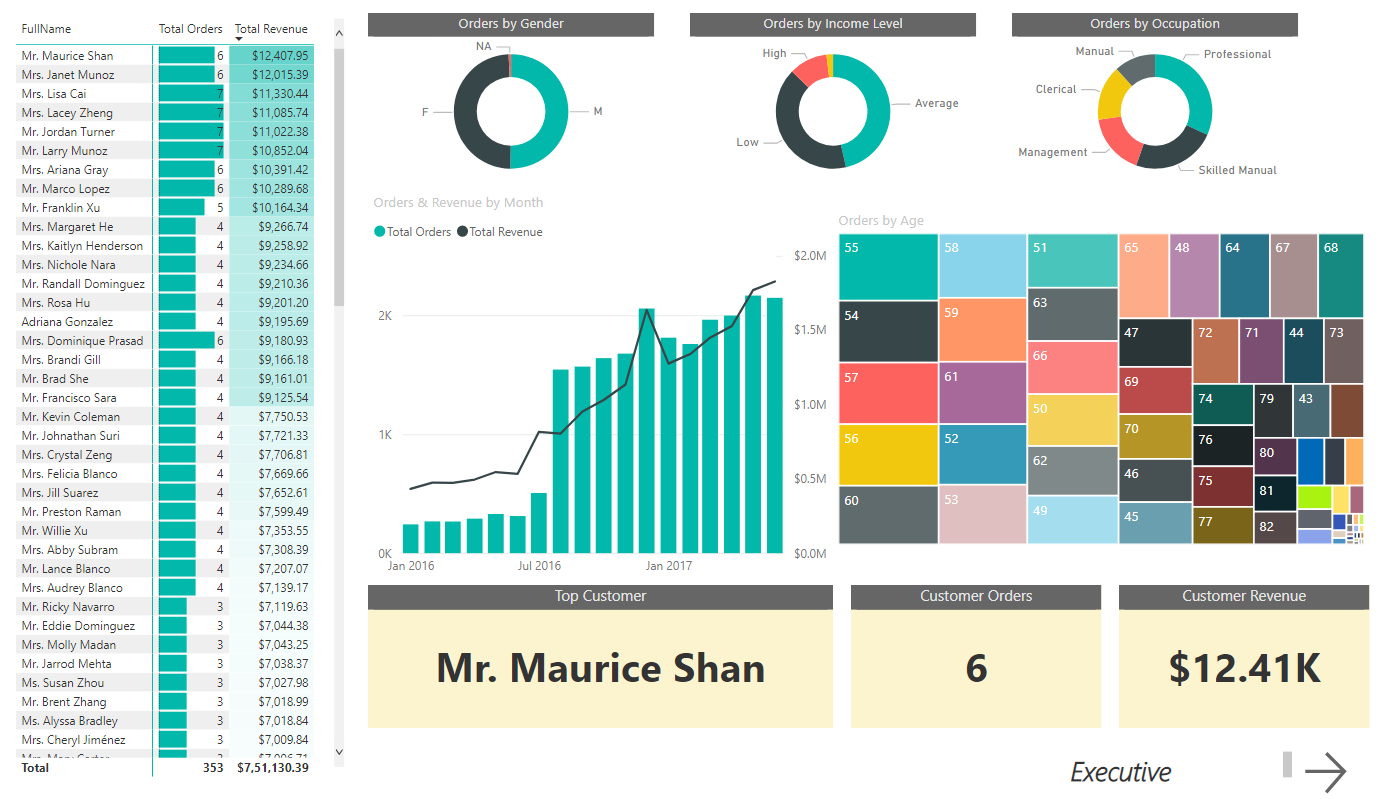

The page's visual inventory and layout, read from the dashboard file:
{"tool":"powerbi","page":{"name":"Customer Detail","canvas":[1280,720],"ordinal":2},"visuals":[{"type":"pivotTable","fields":{"Values":["AW_Sales.Total Orders","AW_Sales.Total Revenue"],"Rows":["AW_Customer_Lookup.FullName"]},"box":[16,16,304,688],"z":0},{"type":"donutChart","title":"Orders by Gender","fields":{"Y":["AW_Sales.Total Orders"],"Category":["AW_Customer_Lookup.Gender"]},"box":[336,16,256,160],"z":1000},{"type":"donutChart","title":"Orders by Income Level","fields":{"Y":["AW_Sales.Total Orders"],"Category":["AW_Customer_Lookup.Income Level"]},"box":[624,16,256,160],"z":2000},{"type":"donutChart","title":"Orders by Occupation","fields":{"Y":["AW_Sales.Total Orders"],"Category":["AW_Customer_Lookup.Occupation"]},"box":[912,16,256,160],"z":3000},{"type":"lineClusteredColumnComboChart","title":"Orders & Revenue by Month","fields":{"Y":["AW_Sales.Total Orders"],"Y2":["AW_Sales.Total Revenue"],"Category":["AW_Calendar_Lookup.Start of Month"]},"box":[336,176,416,352],"z":4000},{"type":"treemap","title":"Orders by Age","fields":{"Values":["AW_Sales.Total Orders"],"Group":["AW_Customer_Lookup.Current Age"]},"box":[752,192,480,304],"z":4001},{"type":"card","title":"Top Customer","fields":{"Values":["AW_Customer_Lookup.FullName"]},"box":[336,528,416,128],"z":4002},{"type":"card","title":"Customer Revenue","fields":{"Values":["AW_Sales.Total Revenue"]},"box":[1008,528,224,128],"z":4003},{"type":"card","title":"Customer Orders","fields":{"Values":["AW_Sales.Total Orders"]},"box":[768,528,224,128],"z":4004},{"type":"textbox","box":[960,672,208,48],"z":4005},{"type":"actionButton","box":[1168,672,64,48],"z":4006}]}

Visuals, with their boxes in screenshot pixels (x1, y1, x2, y2), scaled from the page's 1280x720 canvas onto the 1395x799 screenshot:
pivotTable - AW_Sales.Total Orders x AW_Sales.Total Revenue: BBox(17, 18, 349, 781)
"Orders by Gender" donutChart: BBox(366, 18, 645, 195)
"Orders by Income Level" donutChart: BBox(680, 18, 959, 195)
"Orders by Occupation" donutChart: BBox(994, 18, 1273, 195)
"Orders & Revenue by Month" lineClusteredColumnComboChart: BBox(366, 195, 820, 586)
"Orders by Age" treemap: BBox(820, 213, 1343, 550)
"Top Customer" card: BBox(366, 586, 820, 728)
"Customer Revenue" card: BBox(1099, 586, 1343, 728)
"Customer Orders" card: BBox(837, 586, 1081, 728)
textbox: BBox(1046, 746, 1273, 798)
actionButton: BBox(1273, 746, 1343, 798)
